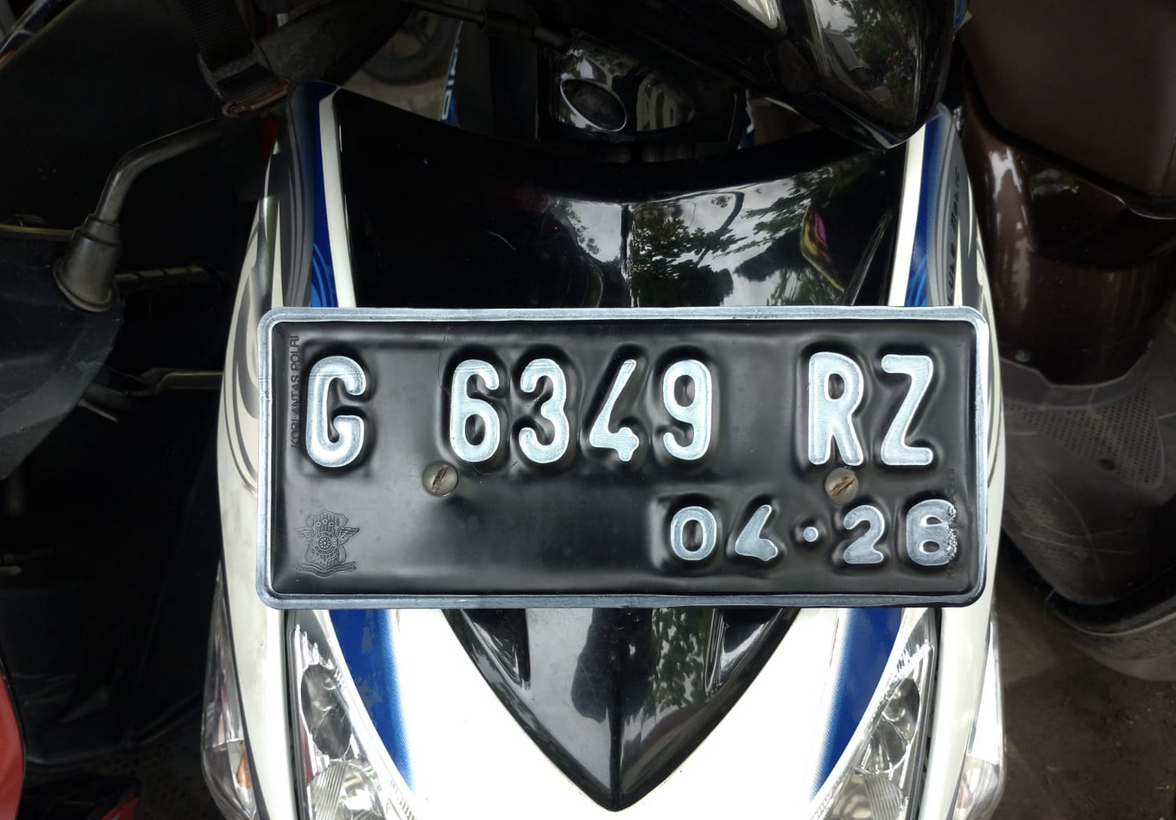plat: (241, 302, 988, 613)
